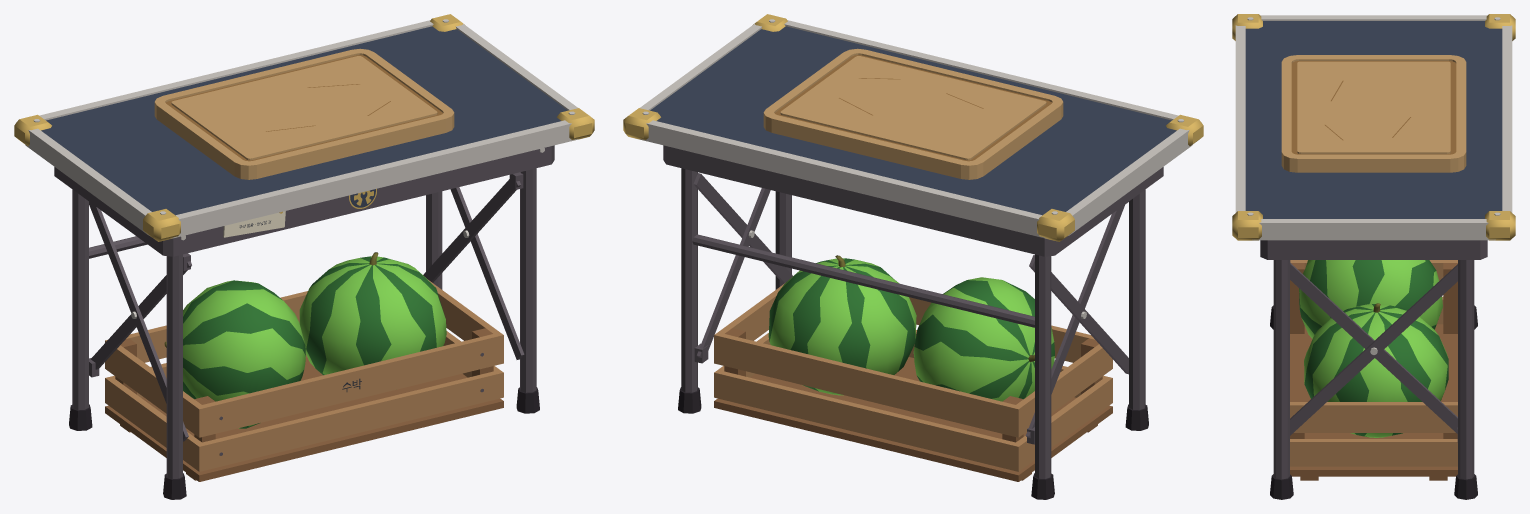
The model's file is range_fruit_table.glb.
The picture shows the model from 3 angles, left to right: view 1: azimuth 30°, elevation 25°; view 2: azimuth 150°, elevation 25°; view 3: azimuth 270°, elevation 25°; orthographic projection. The views are drawn at different scales.
Visible parts, largest first — view 1: range_fruit_table_vc, range_fruit_table_vcd, range_fruit_table_melon_a, range_fruit_table_melon_b, range_fruit_table_vcd_detail, range_fruit_table_vc_detail; view 2: range_fruit_table_vc, range_fruit_table_vcd, range_fruit_table_melon_a, range_fruit_table_melon_b, range_fruit_table_vcd_detail, range_fruit_table_vc_detail; view 3: range_fruit_table_vc, range_fruit_table_vcd, range_fruit_table_melon_a, range_fruit_table_vcd_detail, range_fruit_table_melon_b, range_fruit_table_vc_detail.
Part boxes in pixels (x1,y1,x2,y2): range_fruit_table_vc: (25,20,577,481); range_fruit_table_vcd: (41,26,567,478); range_fruit_table_melon_a: (299,252,446,375); range_fruit_table_melon_b: (164,280,305,428); range_fruit_table_vcd_detail: (69,172,539,499); range_fruit_table_vc_detail: (14,14,594,318); range_fruit_table_vc: (640,20,1192,481); range_fruit_table_vcd: (650,26,1176,478); range_fruit_table_melon_a: (768,255,916,395); range_fruit_table_melon_b: (913,277,1054,401); range_fruit_table_vcd_detail: (678,173,1148,499); range_fruit_table_vc_detail: (623,14,1203,318); range_fruit_table_vc: (1235,15,1512,480); range_fruit_table_vcd: (1245,21,1502,479); range_fruit_table_melon_a: (1304,303,1448,437); range_fruit_table_vcd_detail: (1270,260,1477,499); range_fruit_table_melon_b: (1299,260,1442,338); range_fruit_table_vc_detail: (1232,14,1515,354).
Size of the model in its own units: 0.811 by 0.5456 by 0.461.
